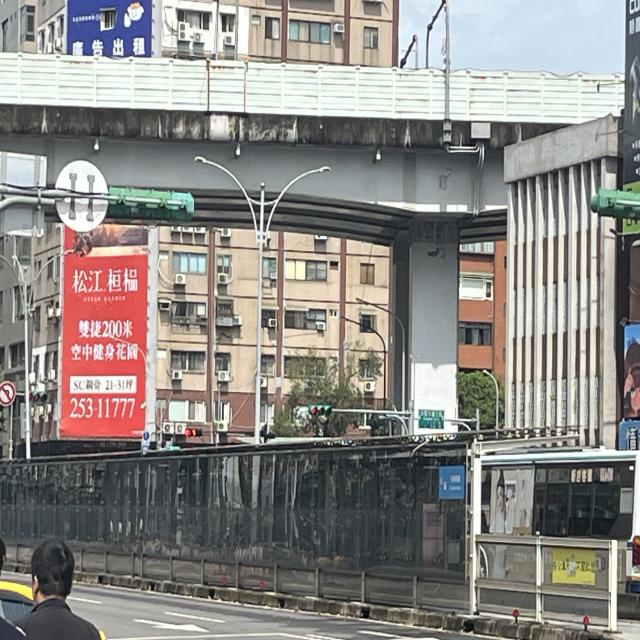red light: (309, 401, 335, 418), (184, 423, 204, 440)
